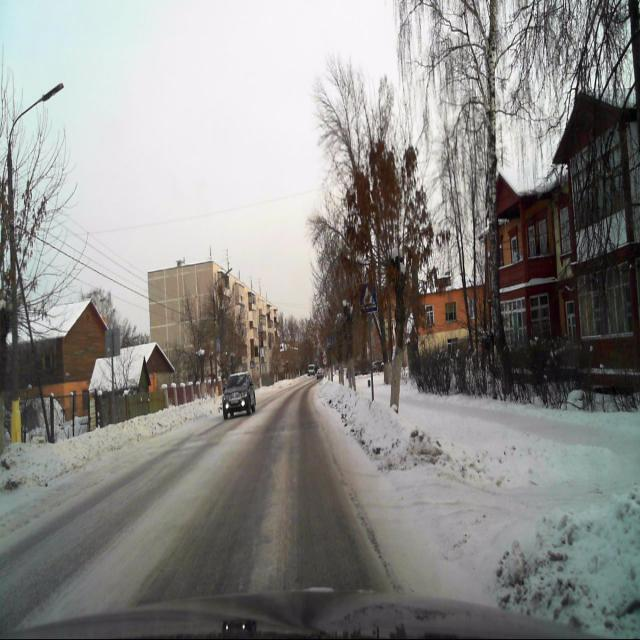road sign: (359, 282, 377, 315)
